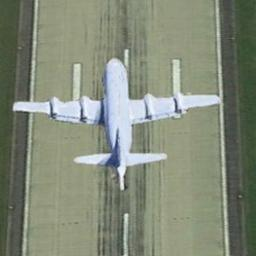Airplane: (11, 56, 222, 191)
